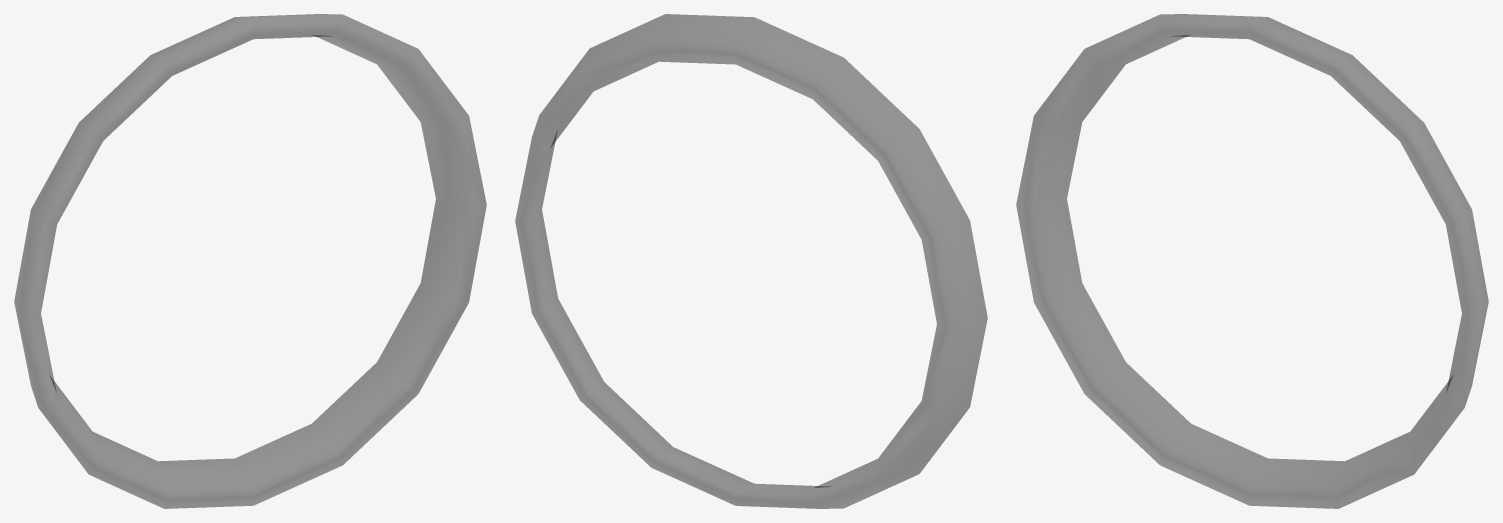
File: Sound_ammo.glb
3 views of the same model, side by side, from view 1: azimuth 30°, elevation 25°; view 2: azimuth 150°, elevation 25°; view 3: azimuth 330°, elevation 25° (orthographic).
Visible parts, largest first — view 1: Sound_ammo; view 2: Sound_ammo; view 3: Sound_ammo.
Boxes of the visible parts, box(x1,y1,x2,y2) form: Sound_ammo: box(14, 14, 486, 508); Sound_ammo: box(515, 14, 987, 508); Sound_ammo: box(1016, 14, 1488, 508).
Bounding box in the file's own units: 0.5427 × 0.5427 × 0.0379.
1 material, 1 textured.
